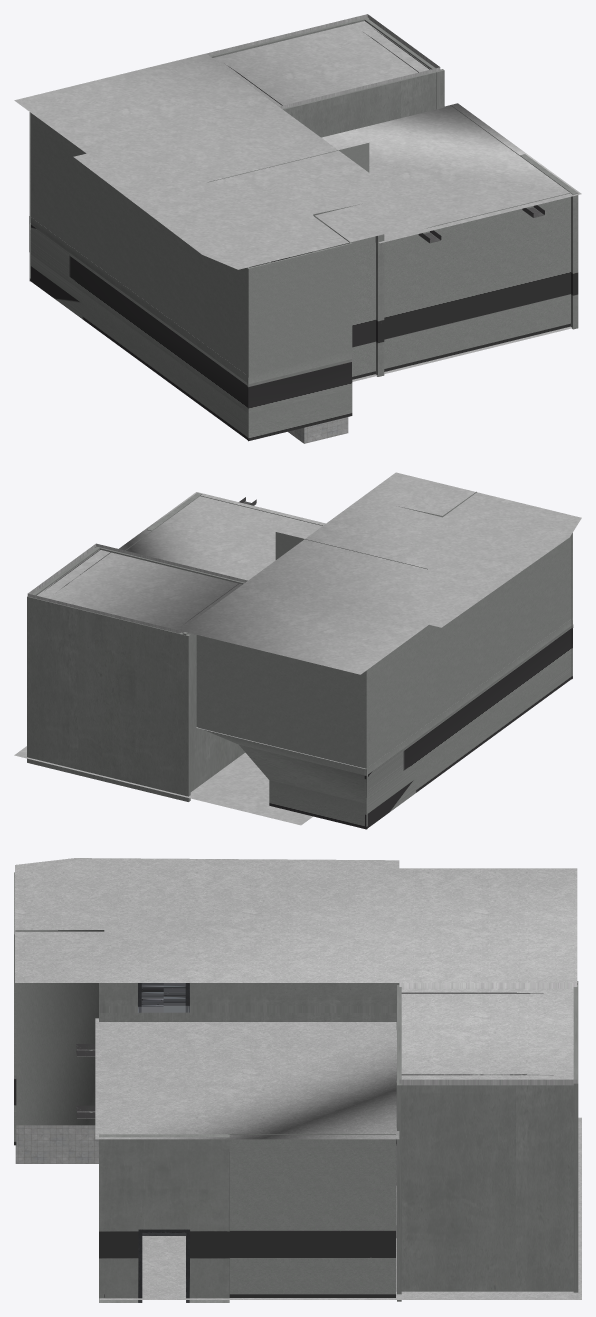
Rendered from New173Chemb.fbx.
The picture shows the model from 3 angles, top to bottom: view 1: azimuth 30°, elevation 25°; view 2: azimuth 150°, elevation 25°; view 3: azimuth 270°, elevation 25°; orthographic projection. The views are drawn at different scales.
Parts seen in each view (by area): view 1: polySurface22, Curve_Wall.003, Curve_Wall.001, Curve_Wall.004, polySurface22.003, Cube.005, Main_Wall02, Main_Wall01, Cube.001, Curve_Wall, polySurface22.001, Cube.004 (+1 smaller); view 2: polySurface22, Curve_Wall.003, Cube.004, Curve_Wall.005, polySurface22.003, polySurface22.001, Cube.003, Curve_Wall; view 3: polySurface22, Cube.002, polySurface22.003, Curve_Wall, Main_Wall02, Main_Wall01, Curve_Wall.001, polySurface22.001, Cube.001, Cube.004, Cube.005, Curve_Wall.004 (+1 smaller).
Boxes of the visible parts, bbox=[...] form: polySurface22: bbox=[14, 14, 440, 269]; Curve_Wall.003: bbox=[31, 113, 249, 439]; Curve_Wall.001: bbox=[313, 192, 570, 379]; Curve_Wall.004: bbox=[247, 243, 352, 441]; polySurface22.003: bbox=[321, 103, 581, 243]; Cube.005: bbox=[282, 69, 444, 137]; Main_Wall02: bbox=[520, 154, 578, 329]; Main_Wall01: bbox=[271, 234, 384, 376]; Cube.001: bbox=[288, 417, 348, 443]; Curve_Wall: bbox=[207, 106, 519, 182]; polySurface22.001: bbox=[352, 326, 572, 381]; Cube.004: bbox=[210, 17, 369, 57]; polySurface22: bbox=[27, 472, 581, 674]; Curve_Wall.003: bbox=[364, 535, 571, 829]; Cube.004: bbox=[27, 596, 190, 801]; Curve_Wall.005: bbox=[196, 635, 367, 829]; polySurface22.003: bbox=[119, 492, 325, 580]; polySurface22.001: bbox=[14, 746, 312, 825]; Cube.003: bbox=[182, 632, 244, 791]; Curve_Wall: bbox=[125, 530, 427, 569]; polySurface22: bbox=[15, 858, 577, 1085]; Cube.002: bbox=[396, 1081, 573, 1291]; polySurface22.003: bbox=[95, 1018, 399, 1139]; Curve_Wall: bbox=[228, 1134, 396, 1297]; Main_Wall02: bbox=[99, 1134, 229, 1302]; Main_Wall01: bbox=[99, 983, 396, 1185]; Curve_Wall.001: bbox=[15, 930, 104, 1297]; polySurface22.001: bbox=[99, 1117, 581, 1299]; Cube.001: bbox=[15, 1125, 98, 1163]; Cube.004: bbox=[573, 981, 578, 1292]; Cube.005: bbox=[397, 985, 401, 1301]; Curve_Wall.004: bbox=[14, 872, 16, 1145].
Bounding box in the file's own units: 2474 × 1168 × 2559.
16 materials, 16 textured.
